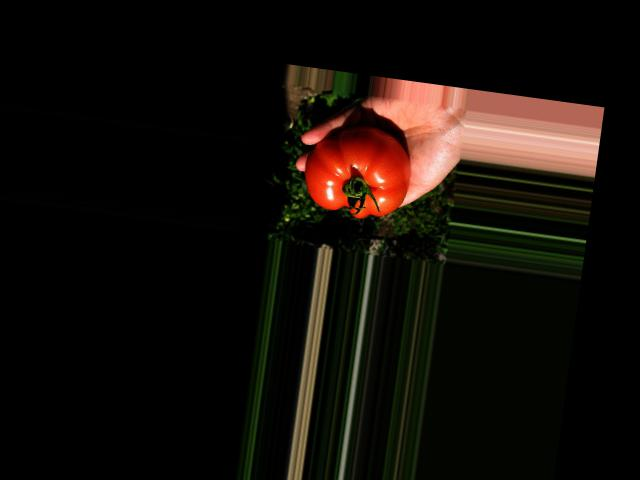tomato: (298, 119, 414, 223)
